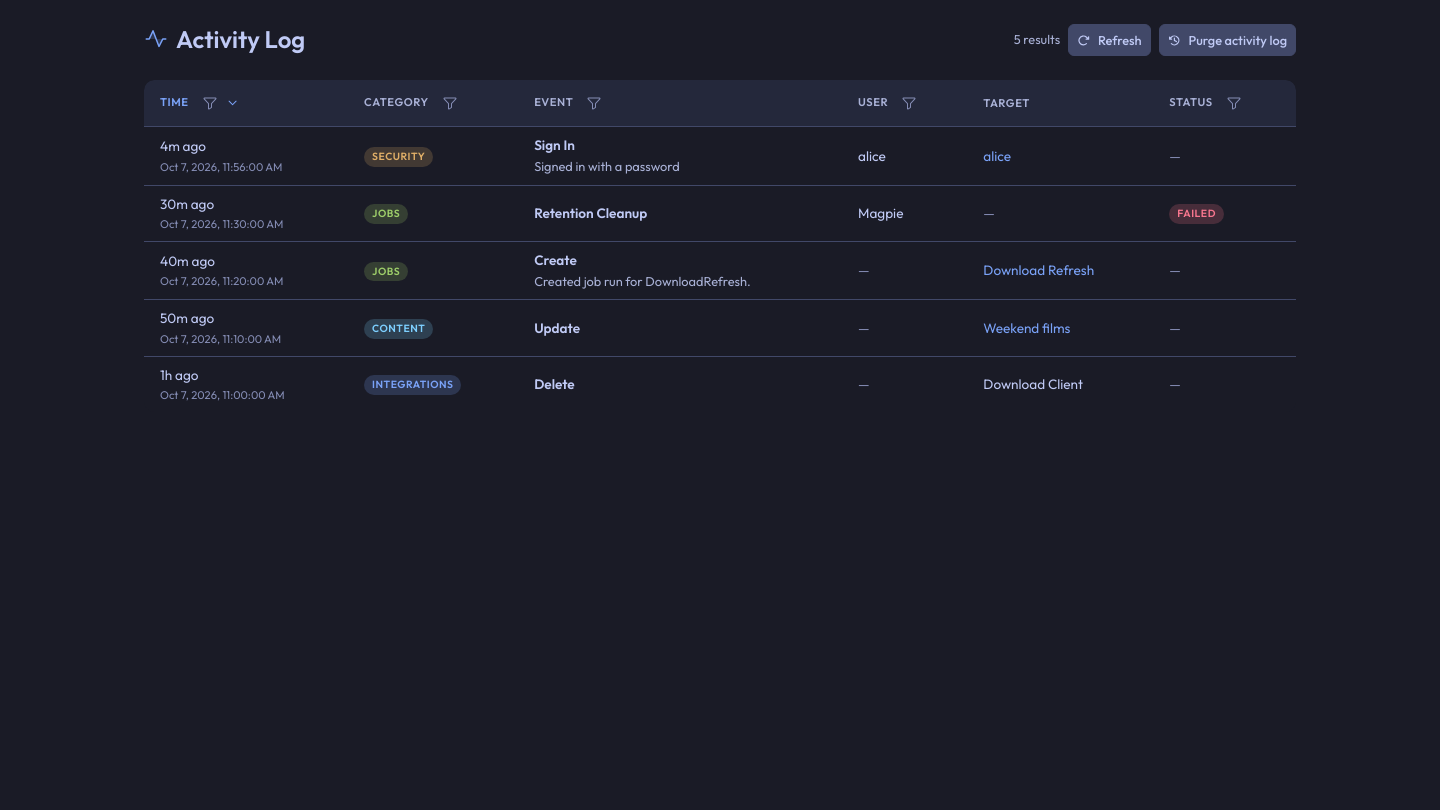
ActivityLogPage › PurgeDialog_ReportsTheDeletedCounts_WhenThePurgeCompletes
The width and height of the screenshot is (1440, 810).
Click the button "Purge activity log" at coordinates (1227, 40), box [1159,24,1296,56]
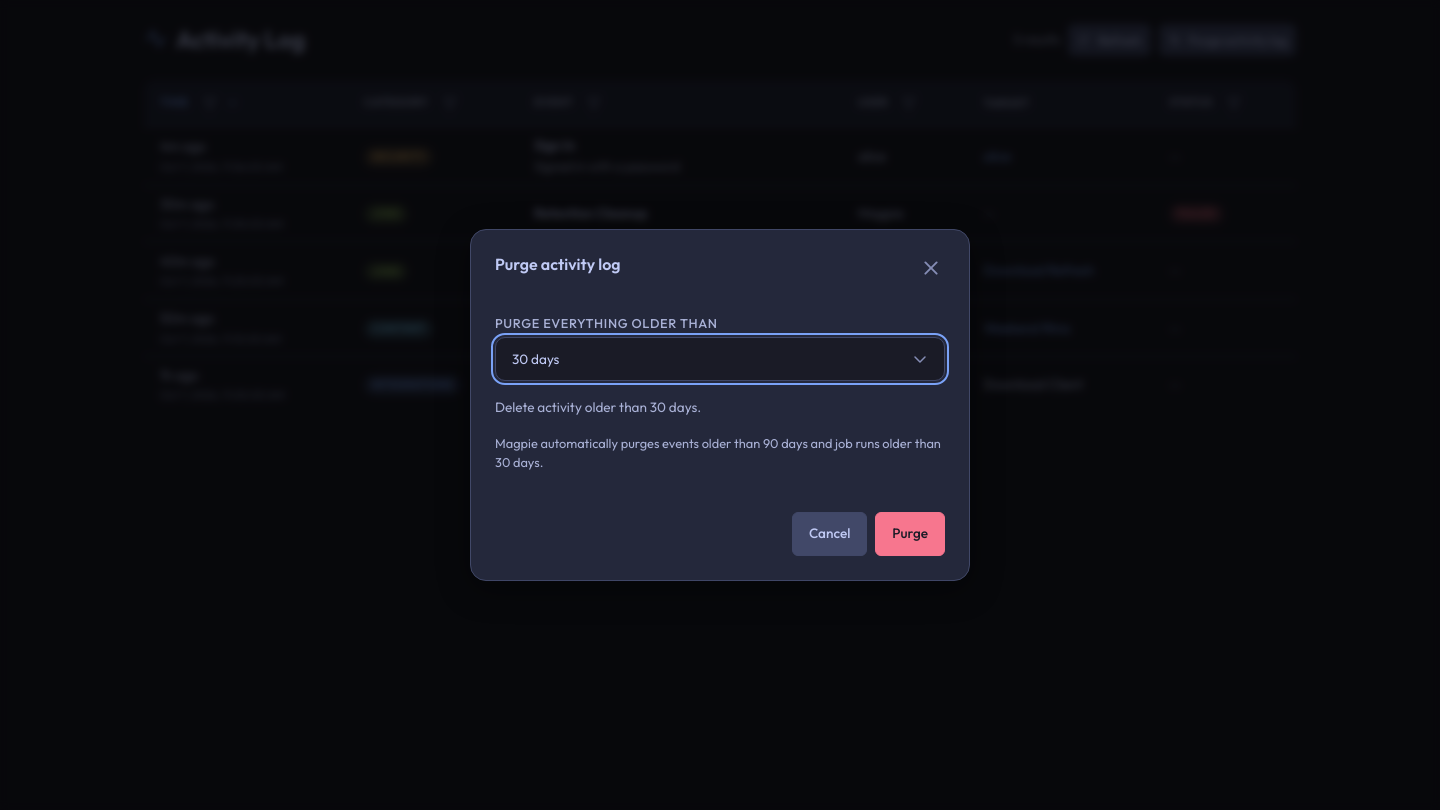
Click the button "Purge" at coordinates (910, 534), box [875,512,945,556]
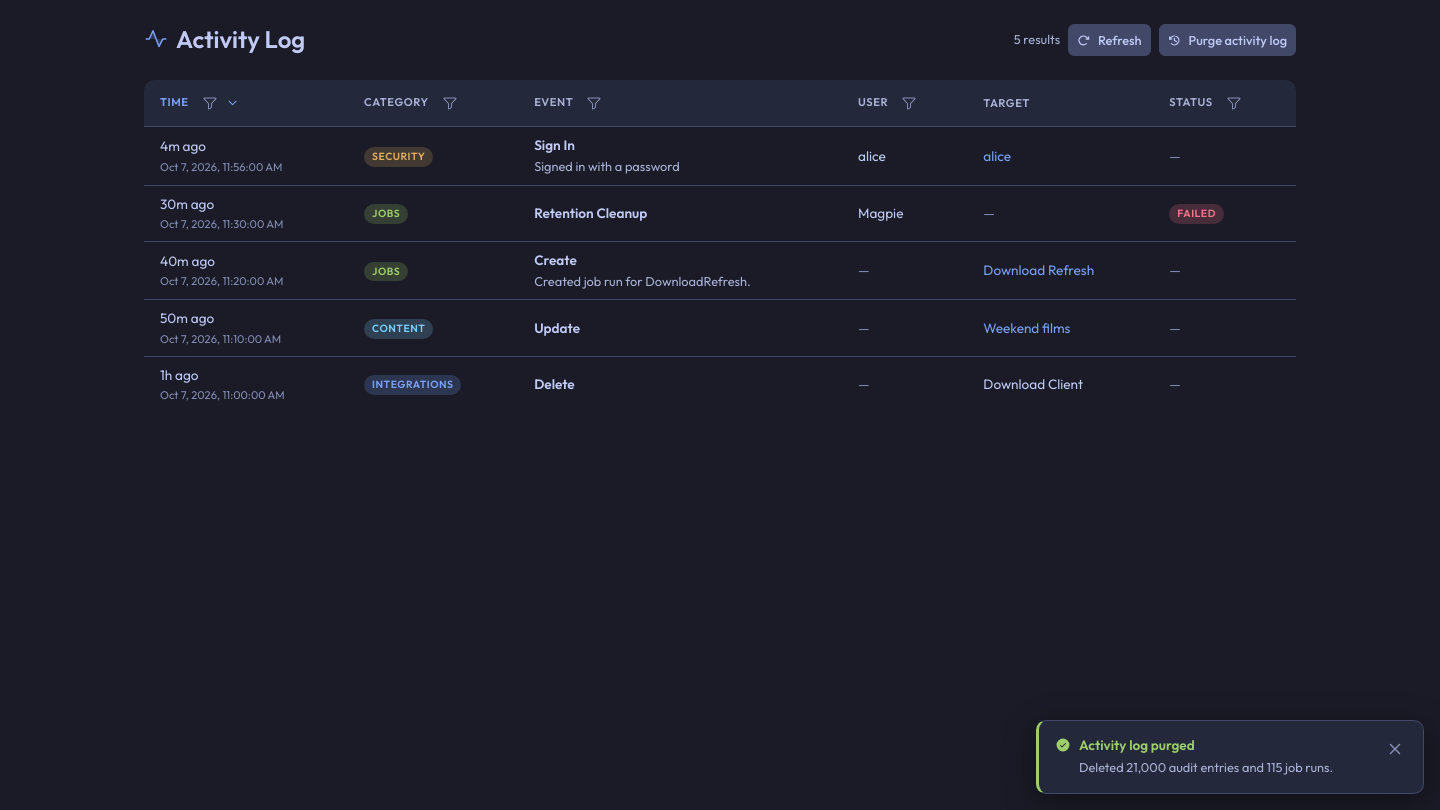
expect the text "Deleted 21,000 audit entries and 115 job runs." is shown: met, box [1079,758,1333,777]
